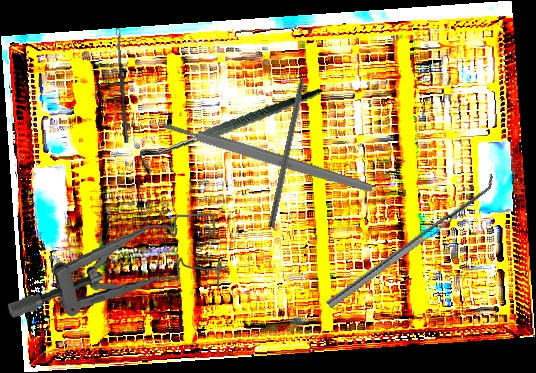Hook Surgical: (137, 67, 323, 196), (268, 53, 313, 229)
Scalpel Handle: (160, 118, 375, 195)
Spatula Surgical: (320, 172, 501, 309)
Speculum: (0, 210, 228, 322)
Surgical Spoon: (115, 27, 130, 144)
